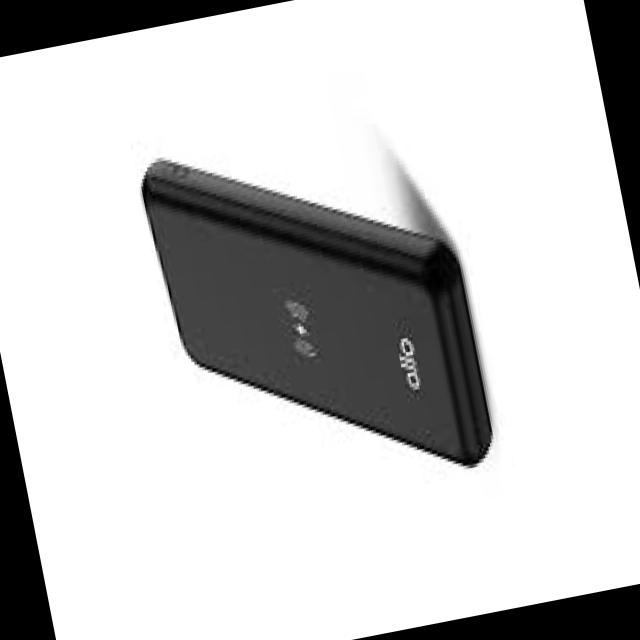power_bank: (132, 99, 511, 534)
